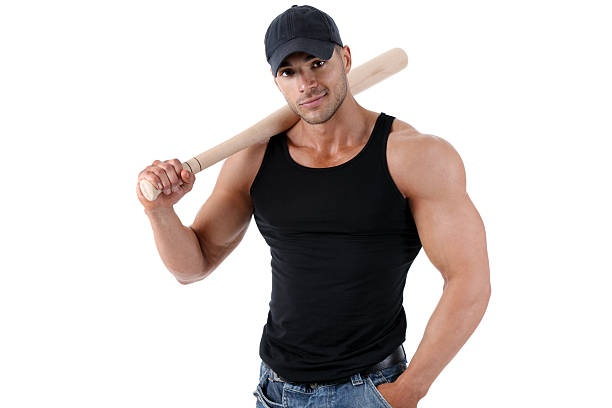bita: (138, 106, 294, 196), (348, 51, 410, 96)
